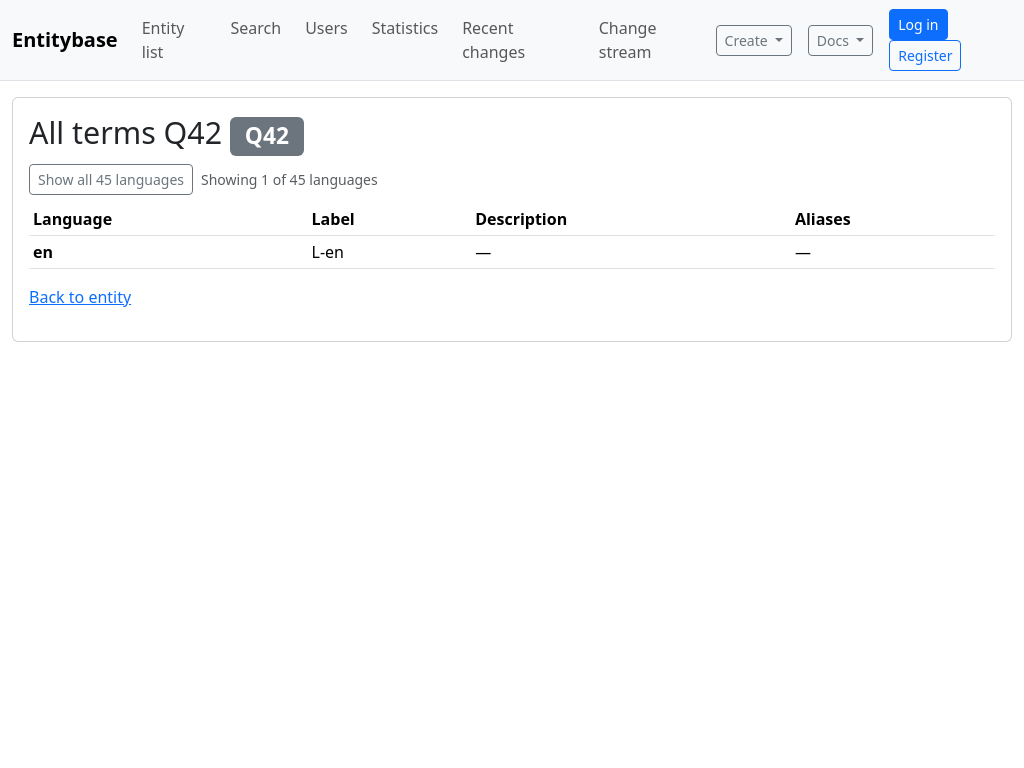
Scenario: EntityTermsView › shows all languages paginated when toggled
Click the button with test id "terms-toggle-all": [111, 179] box [29,164,193,195]
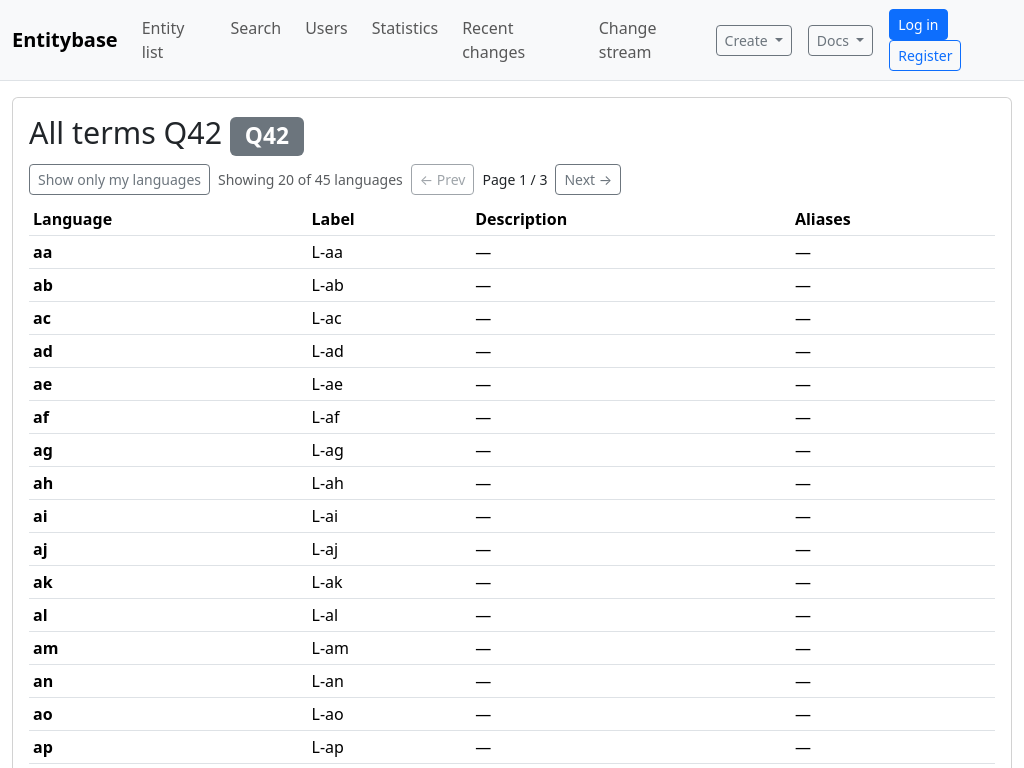
expect the number of rows with test id "terms-row" is 20: met
expect the text with test id "terms-page-info" reads "Page 1 / 3": met, box [482,170,548,189]
expect the cell with test id "terms-lang" reads "aa": met, box [33,241,52,263]
Click the button with test id "terms-next-page": [588, 179] box [555,164,621,195]
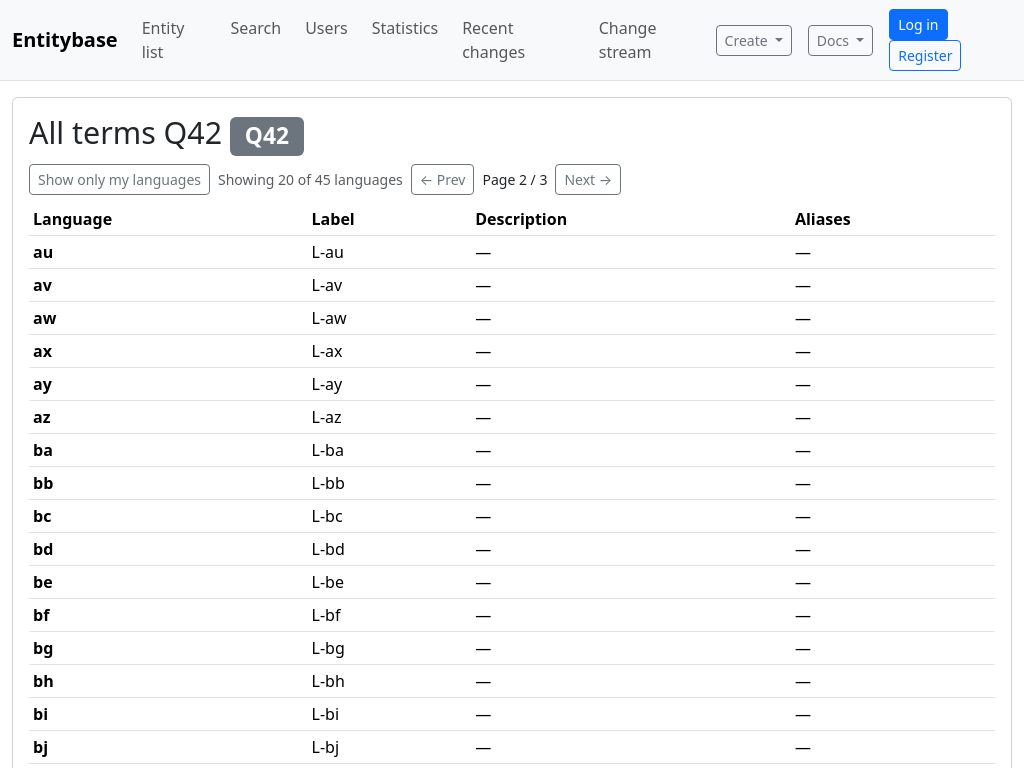
expect the text with test id "terms-page-info" reads "Page 2 / 3": met, box [482,170,548,189]
expect the cell with test id "terms-lang" reads "au": met, box [33,241,53,263]
Prev goes back
Click the button with test id "terms-prev-page": [443, 179] box [411,164,474,195]
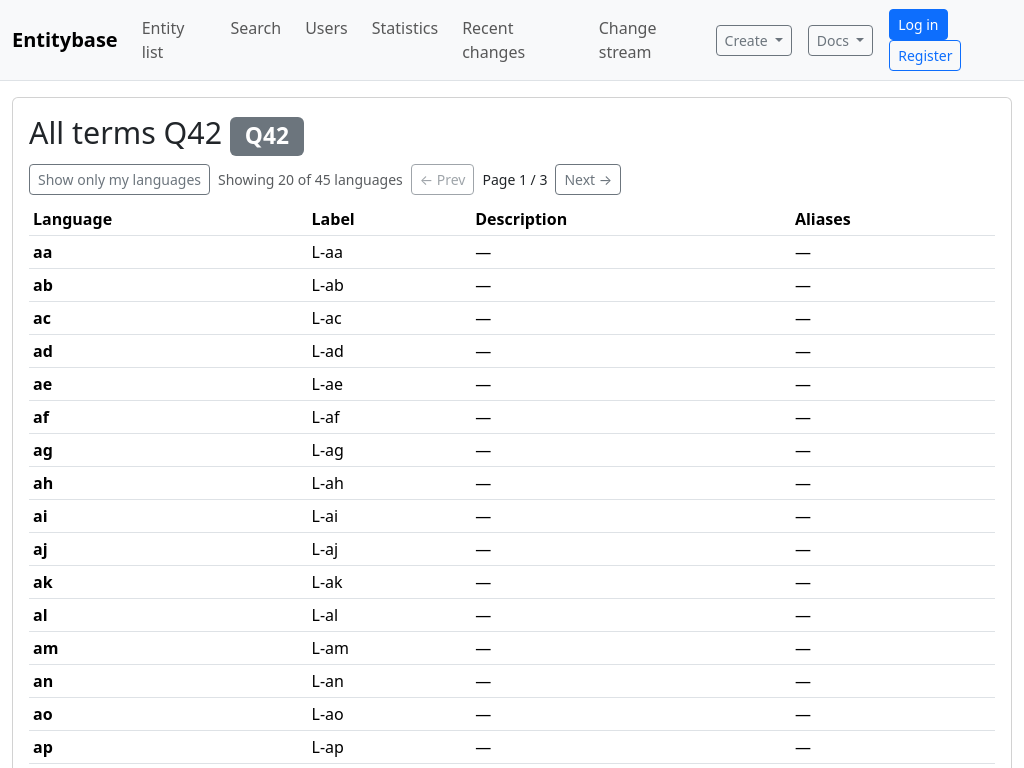
expect the text with test id "terms-page-info" reads "Page 1 / 3": met, box [482,170,548,189]
Toggling back to chain-only view
Click the button with test id "terms-toggle-all": [120, 179] box [29,164,210,195]
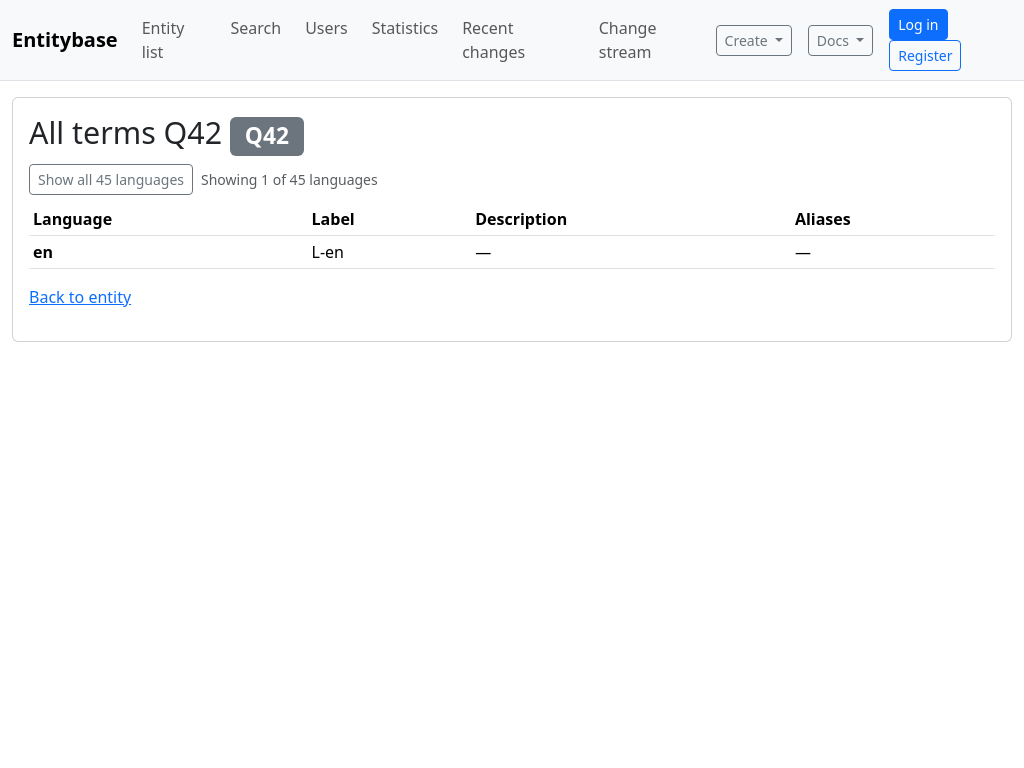
expect the number of rows with test id "terms-row" is 1: met, box [29,235,995,268]
